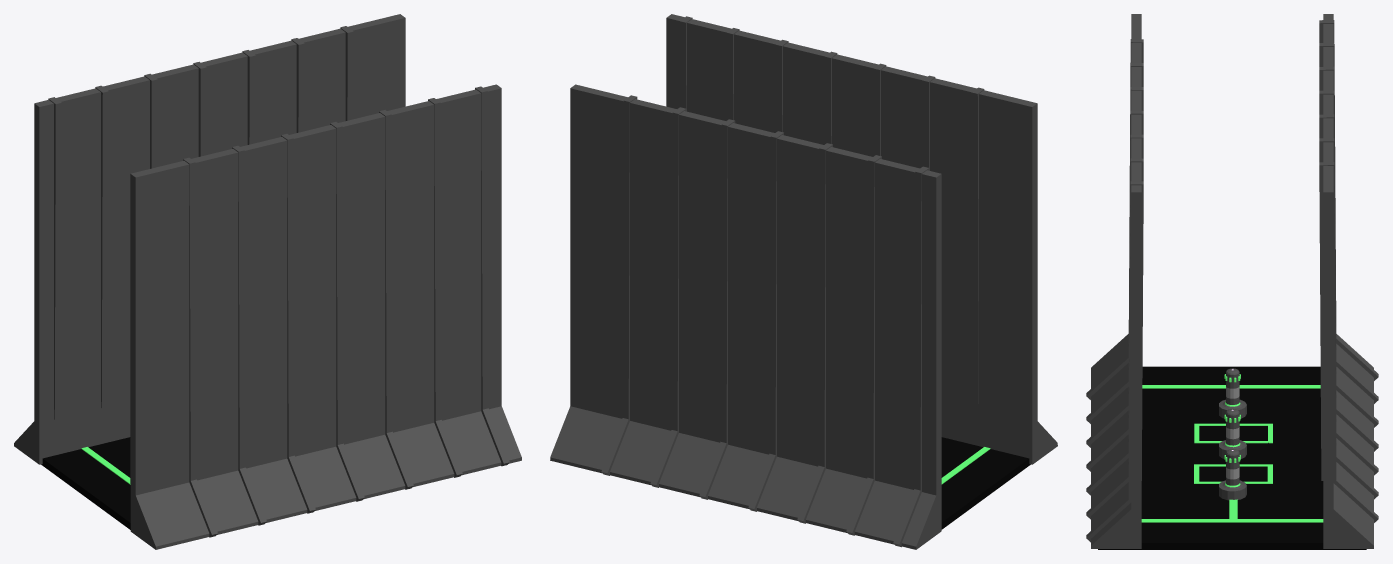
File: ConnectionSection1.fbx
3 renders of one model, left to right at view 1: azimuth 30°, elevation 25°; view 2: azimuth 150°, elevation 25°; view 3: azimuth 270°, elevation 25°, orthographic.
Parts seen in each view (by area): view 1: СТЕНИЩЕ 2.003, СТЕНИЩЕ 2.002, ConnectionSection1; view 2: СТЕНИЩЕ 2.002, СТЕНИЩЕ 2.003, ConnectionSection1; view 3: ConnectionSection1, СТЕНИЩЕ 2.002, СТЕНИЩЕ 2.003, Cube.009, Cylinder.059, Cylinder.058, Cylinder.057.
Part boxes in pixels (x1,y1,x2,y2): СТЕНИЩЕ 2.003: (130, 84, 521, 549); СТЕНИЩЕ 2.002: (14, 14, 405, 464); ConnectionSection1: (41, 437, 130, 529); СТЕНИЩЕ 2.002: (550, 84, 941, 549); СТЕНИЩЕ 2.003: (666, 14, 1057, 464); ConnectionSection1: (941, 437, 1030, 529); ConnectionSection1: (1098, 366, 1366, 549); СТЕНИЩЕ 2.002: (1319, 14, 1378, 548); СТЕНИЩЕ 2.003: (1086, 14, 1143, 548); Cube.009: (1141, 385, 1323, 522); Cylinder.059: (1219, 449, 1246, 500); Cylinder.058: (1219, 368, 1246, 418); Cylinder.057: (1219, 409, 1246, 458).
Size of the model in its own units: 11962 by 11248 by 8299.
